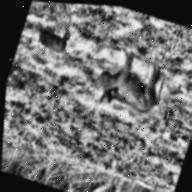boar: (91, 47, 171, 122), (35, 22, 73, 56)
